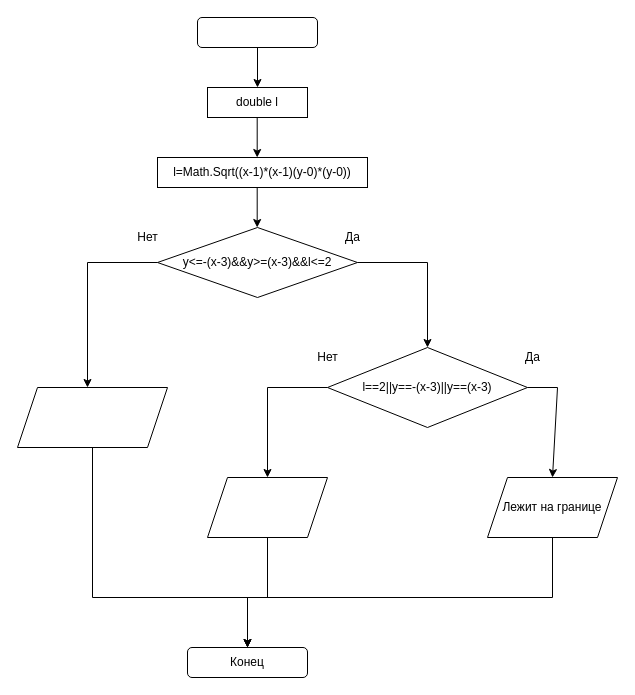
Image size: 635x695. Some labels were removed from this diagram. The shapes that lost their labels are listed below. From the top down, each one's box as (x1, y1, x2, y2) in pixels, then its label:
(196, 16, 318, 48): Начало
(16, 386, 168, 448): Не лежит в области
(206, 476, 328, 538): Лежит в области
